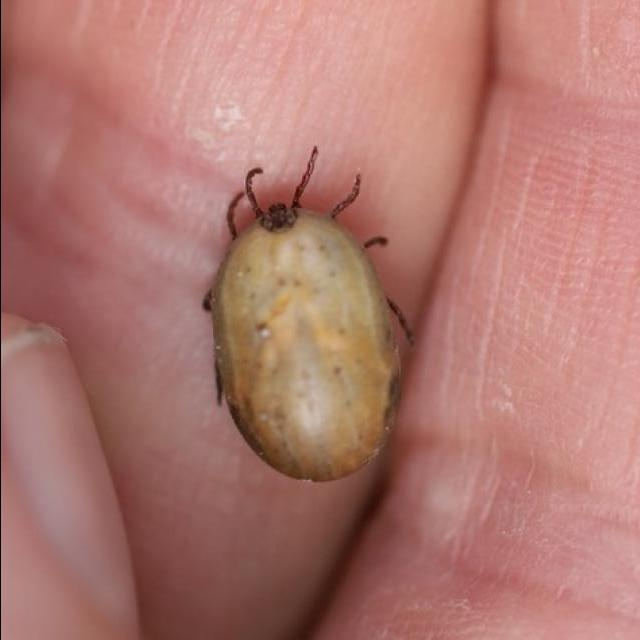Dermacentor Reticulatus-F-Fed: (201, 147, 413, 483)
